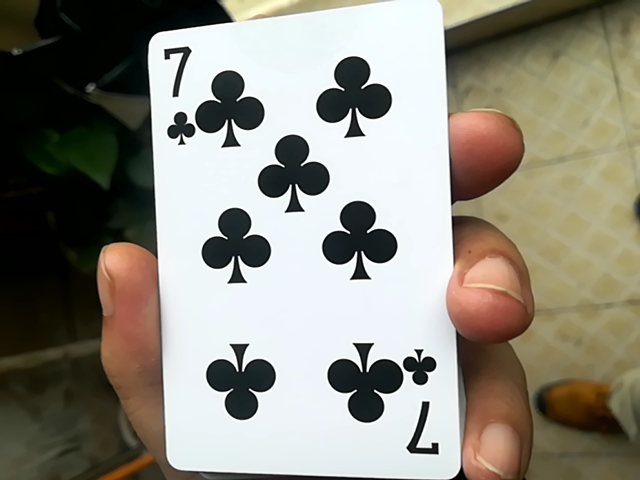mh 7: (132, 8, 466, 480)
